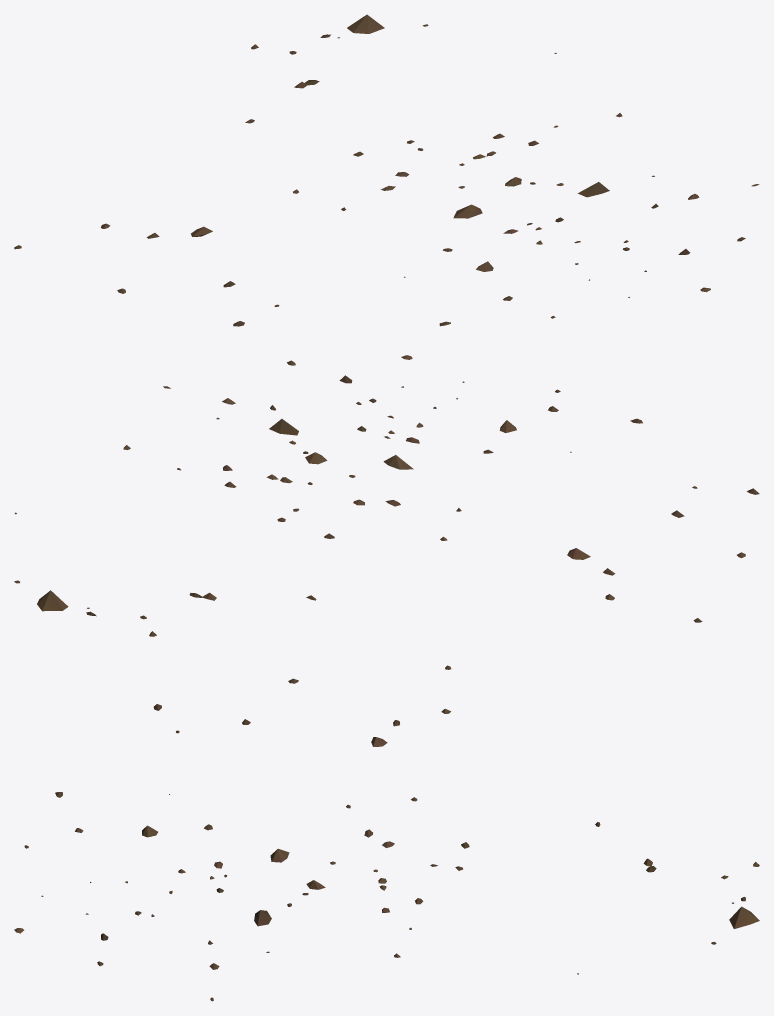
File: ground-1-0-DQXH9wwx.glb
3 views of the same model, one above another, from view 1: azimuth 30°, elevation 25°; view 2: azimuth 150°, elevation 25°; view 3: azimuth 270°, elevation 25° (orthographic). The views are drawn at different scales.
Parts seen in each view (by area): view 1: ground-1-0; view 2: ground-1-0; view 3: ground-1-0.
Boxes of the visible parts, x1,y1,x2,y2 form: ground-1-0: (14, 14, 759, 326); ground-1-0: (14, 355, 759, 636); ground-1-0: (14, 665, 759, 1001).
Size of the model in its own units: 12.88 by 0.5023 by 12.43.
